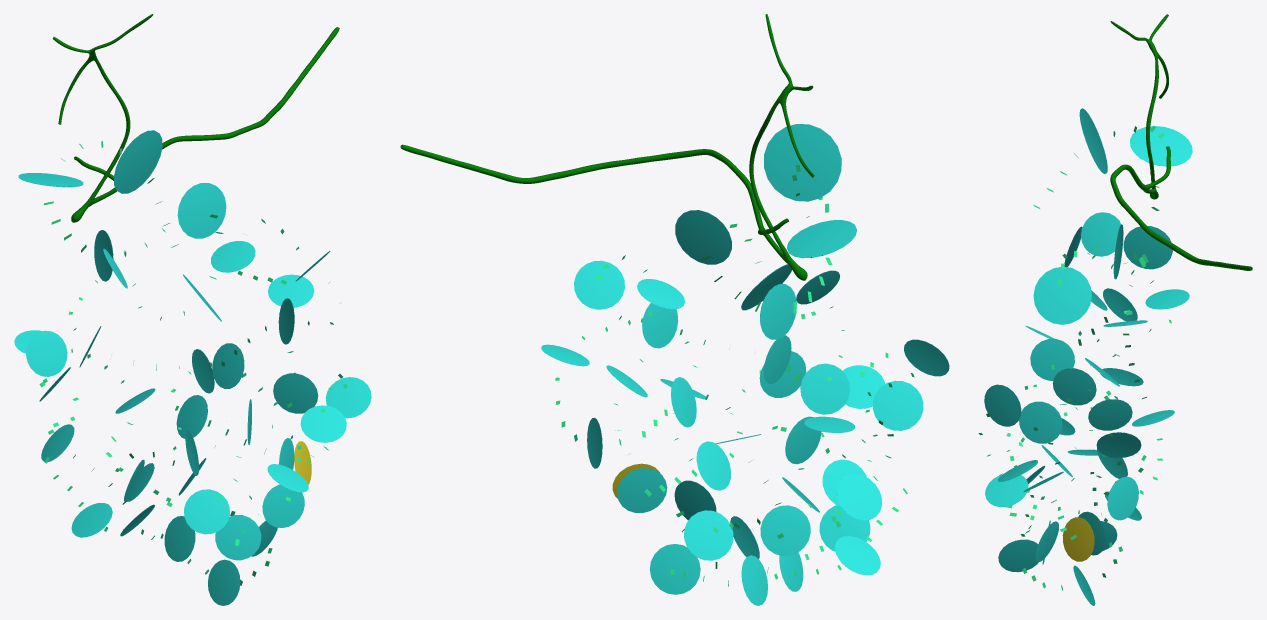
File: 3d-vh-f-small-intestine-landmark.fbx
3 renders of one model, left to right at view 1: azimuth 30°, elevation 25°; view 2: azimuth 150°, elevation 25°; view 3: azimuth 270°, elevation 25°, orthographic. The views are drawn at different scales.
Parts seen in each view (by area): view 1: VH_F_small_intestine_landmark_biliary_tree, VH_F_small_intestine_disc_at_020_cm, VH_F_small_intestine_disc_at_005_cm, VH_F_small_intestine_landmark_cm_markers, VH_F_small_intestine_disc_at_120_cm, VH_F_small_intestine_disc_at_100_cm, VH_F_small_intestine_disc_at_145_cm, VH_F_small_intestine_disc_at_065_cm, VH_F_small_intestine_disc_at_085_cm, VH_F_small_intestine_disc_at_095_cm, VH_F_small_intestine_disc_at_090_cm, VH_F_small_intestine_disc_at_170_cm (+14 smaller); view 2: VH_F_small_intestine_landmark_biliary_tree, VH_F_small_intestine_disc_at_005_cm, VH_F_small_intestine_disc_at_020_cm, VH_F_small_intestine_landmark_cm_markers, VH_F_small_intestine_disc_at_130_cm, VH_F_small_intestine_disc_at_155_cm, VH_F_small_intestine_disc_at_035_cm, VH_F_small_intestine_disc_at_175_cm, VH_F_small_intestine_disc_at_125_cm, VH_F_small_intestine_disc_at_050_cm, VH_F__small_intestine_disc_at_010_cm, VH_F_small_intestine_disc_at_080_cm (+19 smaller); view 3: VH_F_small_intestine_landmark_biliary_tree, VH_F_small_intestine_disc_at_025_cm, VH_F__small_intestine_disc_at_010_cm, VH_F_small_intestine_landmark_cm_markers, VH_F_small_intestine_disc_at_115_cm, VH_F_small_intestine_disc_at_015_cm, VH_F_small_intestine_disc_at_030_cm, VH_F_small_intestine_disc_at_040_cm, VH_F_small_intestine_disc_at_045_cm, VH_F_small_intestine_disc_at_110_cm, VH_F_small_intestine_landmark_jejunoileal_junction, VH_F_small_intestine_disc_at_070_cm (+12 smaller).
Boxes of the visible parts, x1,y1,x2,y2 form: VH_F_small_intestine_landmark_biliary_tree: (52, 14, 339, 222); VH_F_small_intestine_disc_at_020_cm: (177, 183, 226, 238); VH_F_small_intestine_disc_at_005_cm: (113, 130, 162, 193); VH_F_small_intestine_landmark_cm_markers: (39, 141, 347, 585); VH_F_small_intestine_disc_at_120_cm: (184, 489, 229, 534); VH_F_small_intestine_disc_at_100_cm: (215, 515, 261, 560); VH_F_small_intestine_disc_at_145_cm: (26, 330, 67, 376); VH_F_small_intestine_disc_at_065_cm: (273, 373, 318, 413); VH_F_small_intestine_disc_at_085_cm: (325, 377, 371, 418); VH_F_small_intestine_disc_at_095_cm: (262, 484, 304, 527); VH_F_small_intestine_disc_at_090_cm: (300, 405, 346, 442); VH_F_small_intestine_disc_at_170_cm: (208, 559, 240, 605); VH_F_small_intestine_landmark_biliary_tree: (400, 14, 814, 280); VH_F_small_intestine_disc_at_005_cm: (764, 124, 841, 201); VH_F_small_intestine_disc_at_020_cm: (675, 210, 731, 264); VH_F_small_intestine_landmark_cm_markers: (555, 165, 914, 586); VH_F_small_intestine_disc_at_130_cm: (760, 505, 810, 555); VH_F_small_intestine_disc_at_155_cm: (872, 380, 923, 430); VH_F_small_intestine_disc_at_035_cm: (800, 363, 849, 414); VH_F_small_intestine_disc_at_175_cm: (649, 544, 700, 594); VH_F_small_intestine_disc_at_125_cm: (684, 510, 733, 560); VH_F_small_intestine_disc_at_050_cm: (574, 260, 624, 309); VH_F__small_intestine_disc_at_010_cm: (787, 220, 856, 258); VH_F_small_intestine_disc_at_080_cm: (617, 468, 667, 512); VH_F_small_intestine_landmark_biliary_tree: (1110, 14, 1252, 270); VH_F_small_intestine_disc_at_025_cm: (1033, 267, 1091, 324); VH_F__small_intestine_disc_at_010_cm: (1130, 126, 1192, 166); VH_F_small_intestine_landmark_cm_markers: (978, 125, 1171, 590); VH_F_small_intestine_disc_at_115_cm: (1019, 401, 1062, 443); VH_F_small_intestine_disc_at_015_cm: (1123, 226, 1172, 269); VH_F_small_intestine_disc_at_030_cm: (1081, 212, 1120, 256); VH_F_small_intestine_disc_at_040_cm: (1030, 339, 1074, 380); VH_F_small_intestine_disc_at_045_cm: (1052, 368, 1096, 405); VH_F_small_intestine_disc_at_110_cm: (984, 384, 1021, 426); VH_F_small_intestine_landmark_jejunoileal_junction: (1062, 517, 1094, 561); VH_F_small_intestine_disc_at_070_cm: (1088, 399, 1132, 430).
Size of the model in its own units: 20.13 by 26.67 by 12.24.
